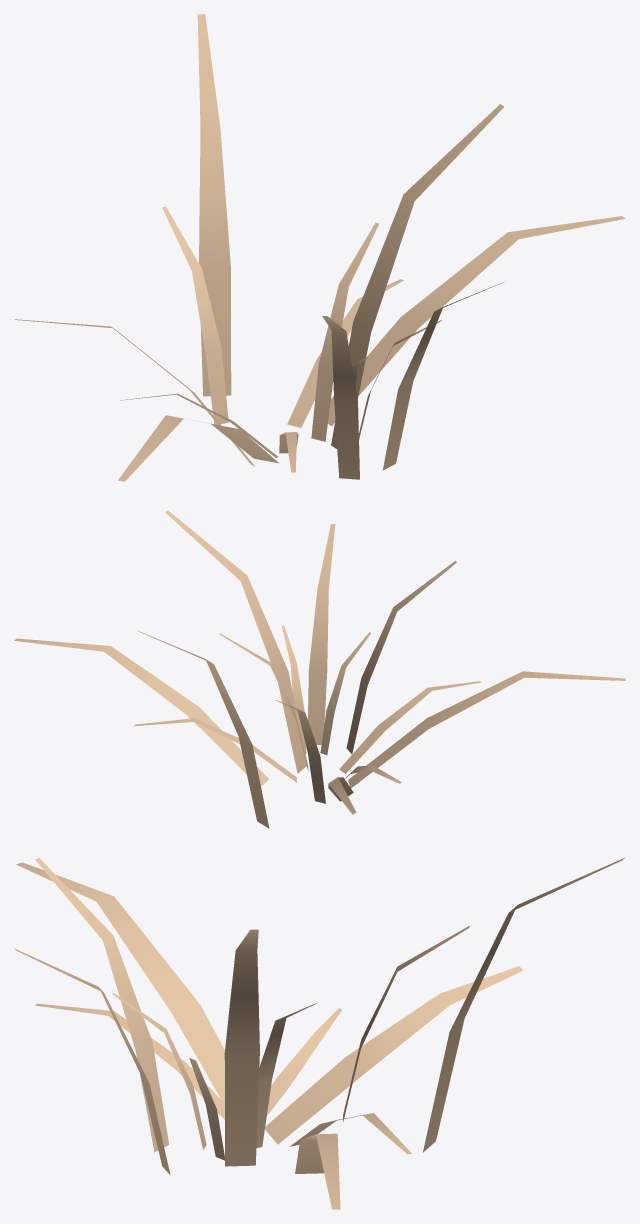
File: GrassOld1.fbx
The picture shows the model from 3 angles, top to bottom: view 1: azimuth 30°, elevation 25°; view 2: azimuth 150°, elevation 25°; view 3: azimuth 270°, elevation 25°; orthographic projection. The views are drawn at different scales.
Parts seen in each view (by area): view 1: GrassOld1; view 2: GrassOld1; view 3: GrassOld1.
Boxes of the visible parts, x1,y1,x2,y2 form: GrassOld1: (14, 14, 625, 481); GrassOld1: (14, 510, 625, 828); GrassOld1: (14, 857, 625, 1209).
Bounding box in the file's own units: 195 × 89.31 × 145.
